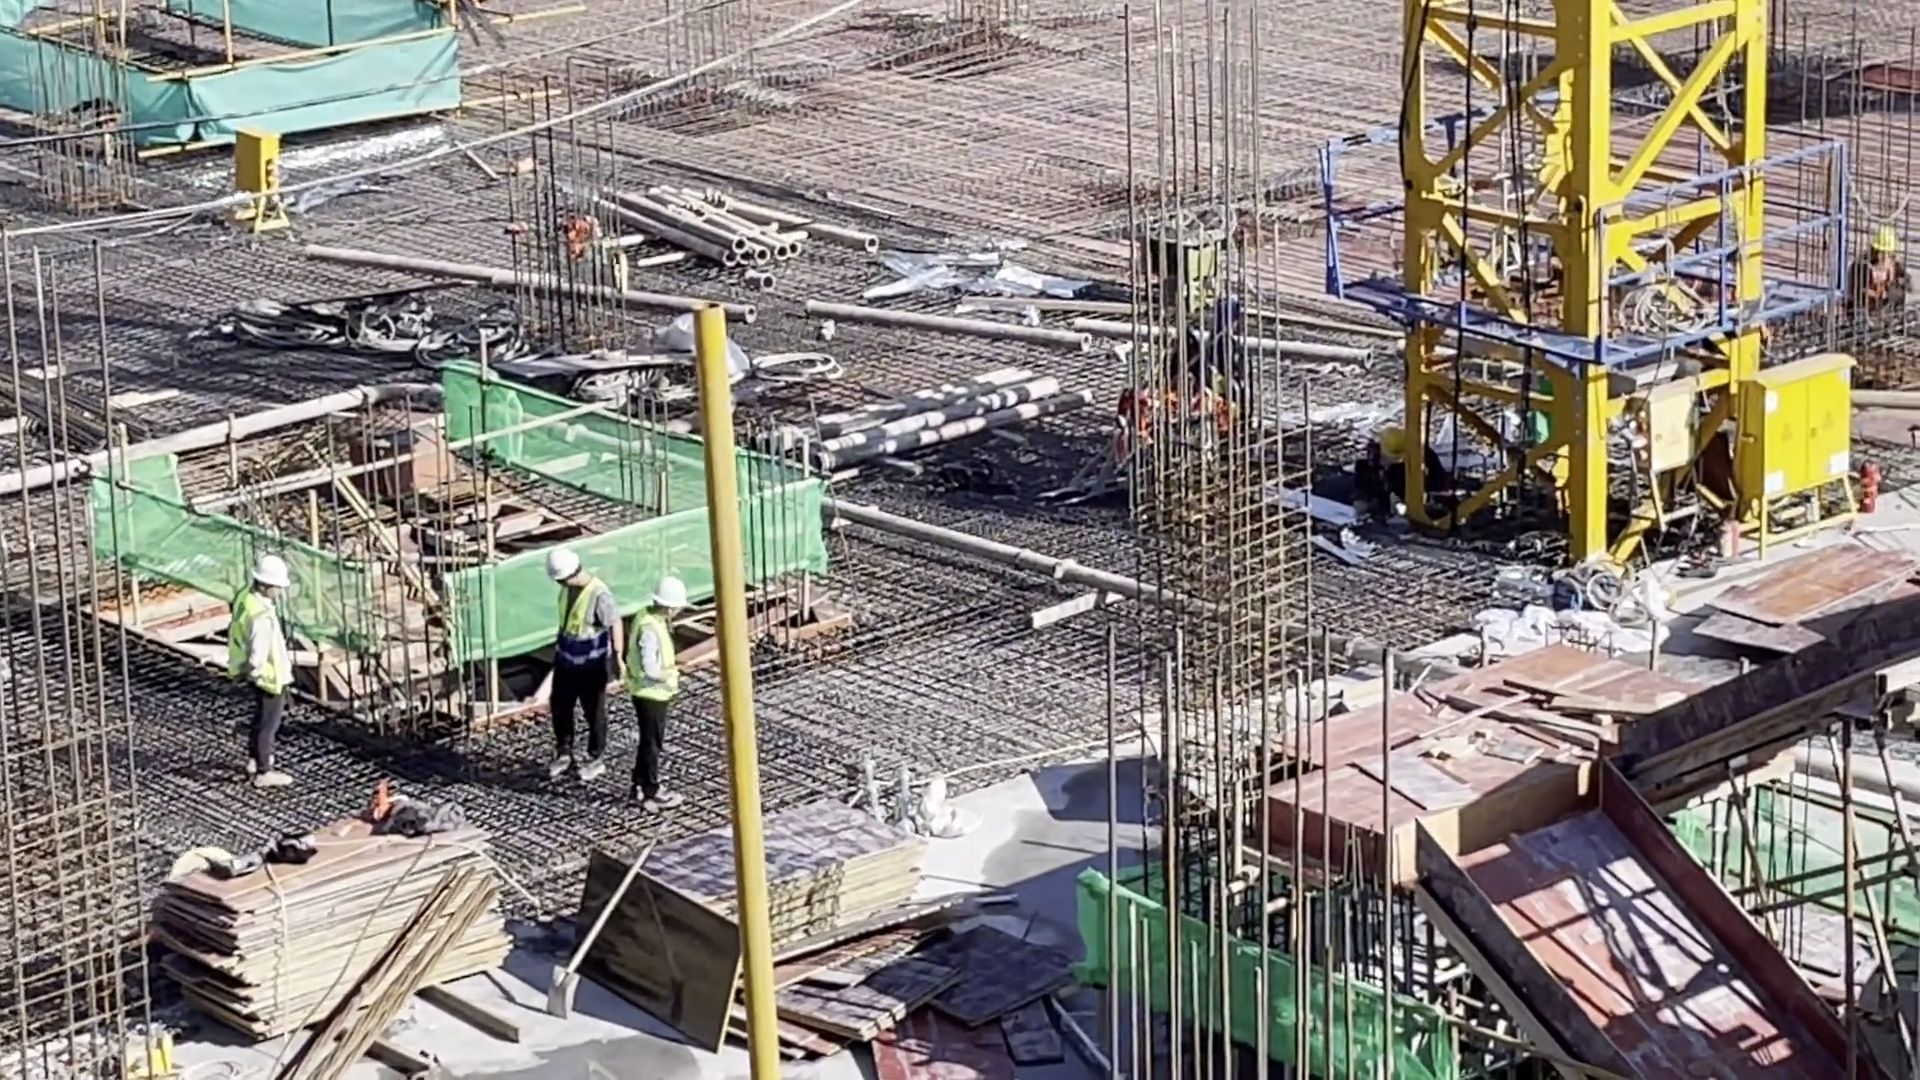helmet: (250, 557, 287, 590), (654, 572, 685, 610), (1380, 430, 1409, 465), (547, 553, 580, 583), (1866, 231, 1895, 256)
person: (545, 550, 625, 783), (230, 556, 304, 785), (625, 569, 688, 815), (1367, 425, 1447, 519), (1852, 228, 1910, 322)
vest: (625, 610, 681, 705), (236, 591, 287, 690), (552, 588, 614, 669), (1867, 258, 1896, 306)
